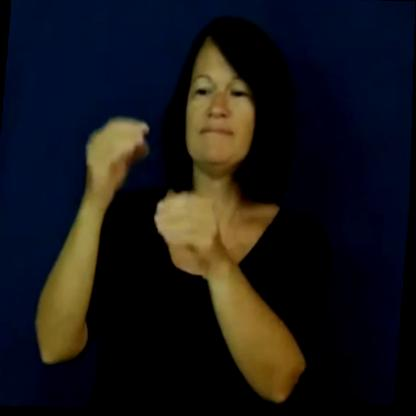Fix: (66, 99, 242, 279)
